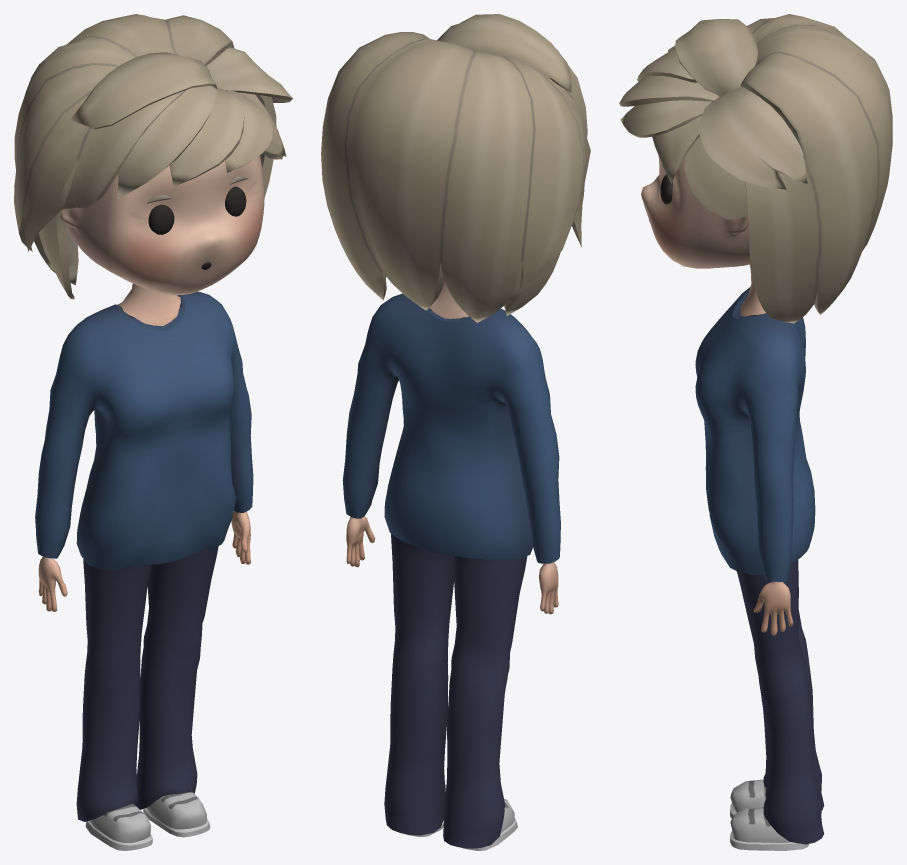
Rendered from Mama.fbx.
3 views of the same model, side by side, from view 1: azimuth 30°, elevation 25°; view 2: azimuth 150°, elevation 25°; view 3: azimuth 270°, elevation 25° (orthographic).
Visible parts, largest first — view 1: Sweater, Hair, Pants, Head, Boots, Body, Eyes; view 2: Hair, Sweater, Pants, Body, Boots; view 3: Hair, Sweater, Pants, Head, Boots, Body.
Boxes of the visible parts, x1=… form: Sweater: x1=35, y1=291, x2=253, y2=570; Hair: x1=14, y1=14, x2=292, y2=299; Pants: x1=76, y1=546, x2=218, y2=821; Head: x1=60, y1=155, x2=264, y2=295; Boots: x1=85, y1=791, x2=210, y2=850; Body: x1=38, y1=283, x2=250, y2=611; Eyes: x1=148, y1=186, x2=246, y2=234; Hair: x1=321, y1=14, x2=590, y2=322; Sweater: x1=342, y1=293, x2=560, y2=563; Pants: x1=384, y1=534, x2=527, y2=848; Body: x1=346, y1=280, x2=558, y2=614; Boots: x1=407, y1=784, x2=517, y2=850; Hair: x1=619, y1=14, x2=892, y2=323; Sweater: x1=695, y1=287, x2=815, y2=581; Pants: x1=737, y1=560, x2=824, y2=844; Head: x1=641, y1=155, x2=750, y2=268; Boots: x1=730, y1=779, x2=808, y2=850; Body: x1=740, y1=264, x2=793, y2=635.
Bounding box in the file's own units: 57.55 × 174 × 54.42.
Materials: 3 (3 with a texture image).
